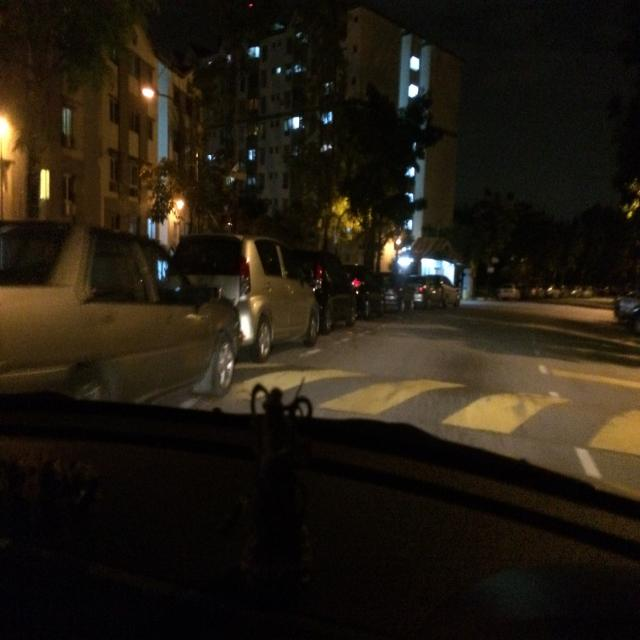Car: (0, 201, 248, 460), (190, 200, 337, 384)
